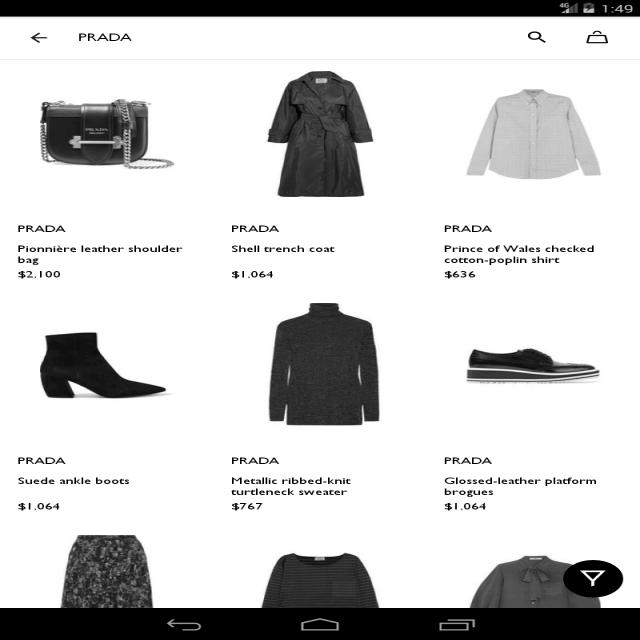ImageButton: (562, 555, 626, 600), (516, 23, 559, 49), (574, 26, 620, 48), (19, 28, 58, 48)
ImageView: (244, 290, 416, 434), (258, 70, 402, 208), (458, 82, 612, 192), (31, 324, 183, 415), (25, 93, 181, 181), (42, 529, 220, 605), (442, 332, 602, 392), (258, 544, 404, 608), (458, 546, 546, 606)
TextView: (224, 239, 347, 255), (72, 28, 165, 49), (14, 495, 93, 517), (6, 217, 87, 236), (223, 452, 292, 470), (442, 499, 511, 517), (434, 219, 504, 236), (433, 264, 487, 282), (442, 452, 502, 466)
